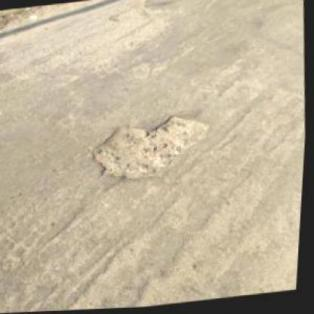Hueco: (91, 113, 215, 185)
